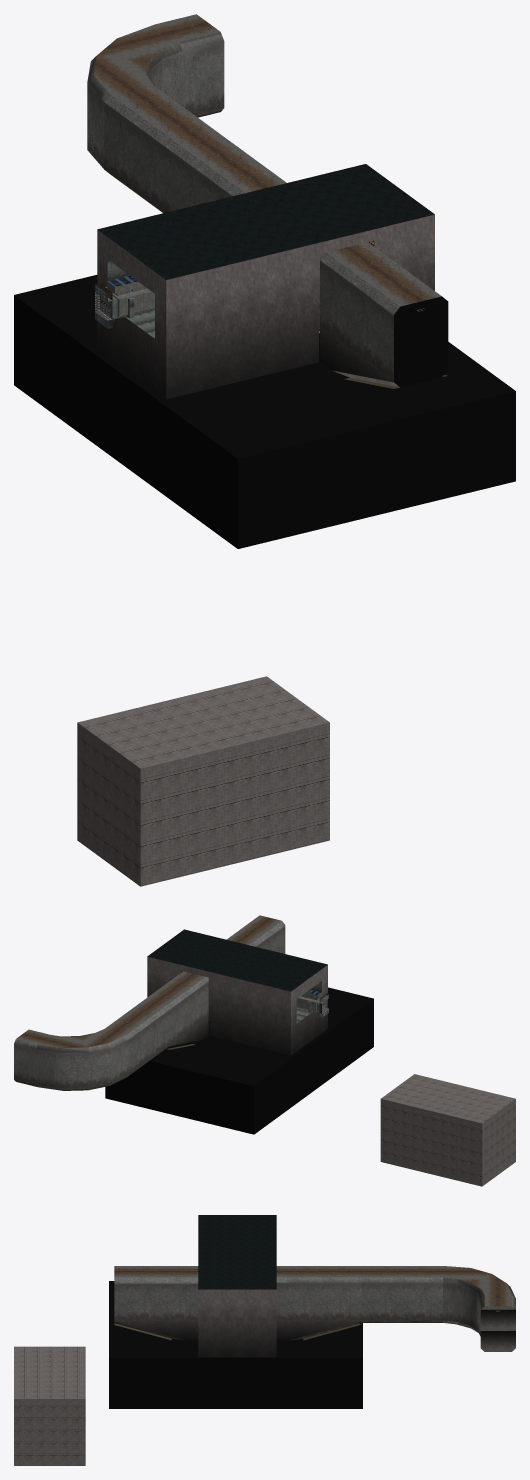
File: c0c0eHL.glb
The picture shows the model from 3 angles, top to bottom: view 1: azimuth 30°, elevation 25°; view 2: azimuth 150°, elevation 25°; view 3: azimuth 270°, elevation 25°; orthographic projection. The views are drawn at different scales.
Visible parts, largest first — view 1: node49, node26, node47, node37, node5, node43; view 2: node49, node26, node37, node47, node5, node43; view 3: node49, node37, node47, node26, node5, node43.
Boxes of the visible parts, left/top/right/bottom form: node49: left=14, top=275, right=515, bottom=548; node26: left=77, top=676, right=329, bottom=886; node47: left=97, top=214, right=434, bottom=399; node37: left=87, top=32, right=399, bottom=381; node5: left=97, top=164, right=434, bottom=279; node43: left=93, top=14, right=441, bottom=306; node49: left=105, top=987, right=373, bottom=1134; node26: left=380, top=1074, right=515, bottom=1186; node37: left=14, top=921, right=285, bottom=1090; node47: left=147, top=956, right=327, bottom=1055; node5: left=147, top=929, right=327, bottom=991; node43: left=16, top=915, right=281, bottom=1047; node49: left=109, top=1281, right=362, bottom=1408; node37: left=114, top=1277, right=515, bottom=1340; node47: left=114, top=1289, right=515, bottom=1357; node26: left=14, top=1346, right=85, bottom=1465; node5: left=198, top=1215, right=276, bottom=1289; node43: left=114, top=1266, right=511, bottom=1306.
Size of the model in its own units: 3512 by 2995 by 5438.
Materials: 60 (60 with a texture image).
